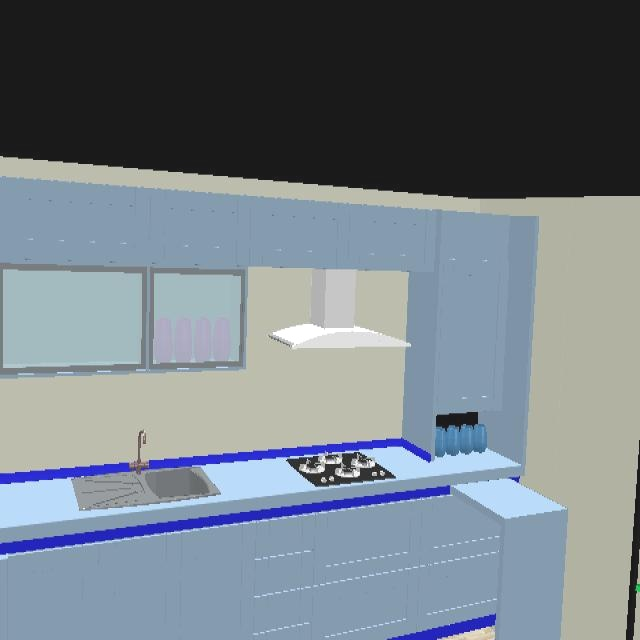countertop: (454, 480, 566, 611), (0, 480, 120, 529), (194, 459, 315, 503), (362, 448, 518, 480)
sink: (71, 465, 221, 513)
stove: (286, 451, 396, 488)
